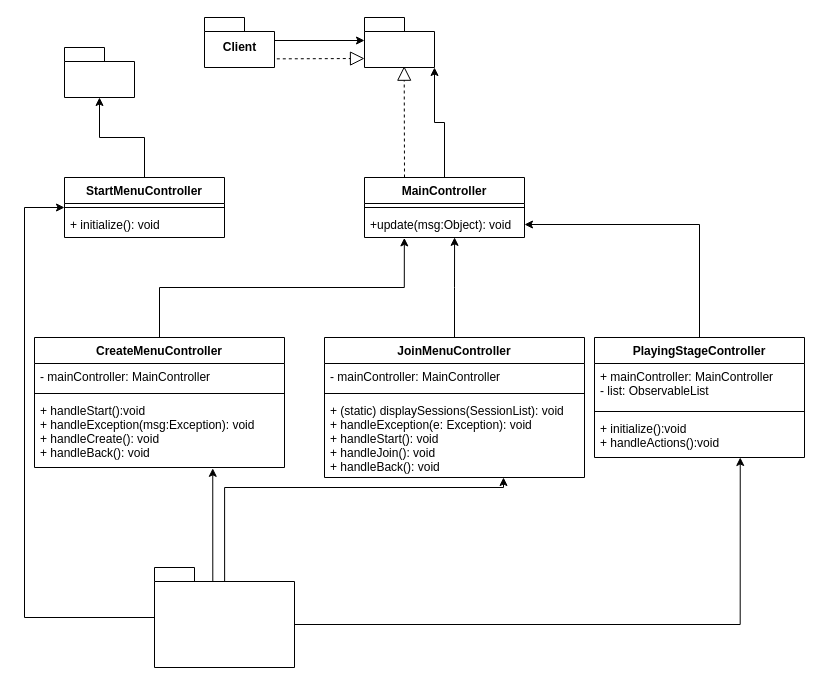
Image size: 822x685. Some labels were removed from this diagram. Here are the shapes that lost their labels. From the top down, the box of each, then its label:
(364, 16, 434, 68): Observer
(64, 46, 134, 98): App
(154, 566, 294, 668): FXML Resources
